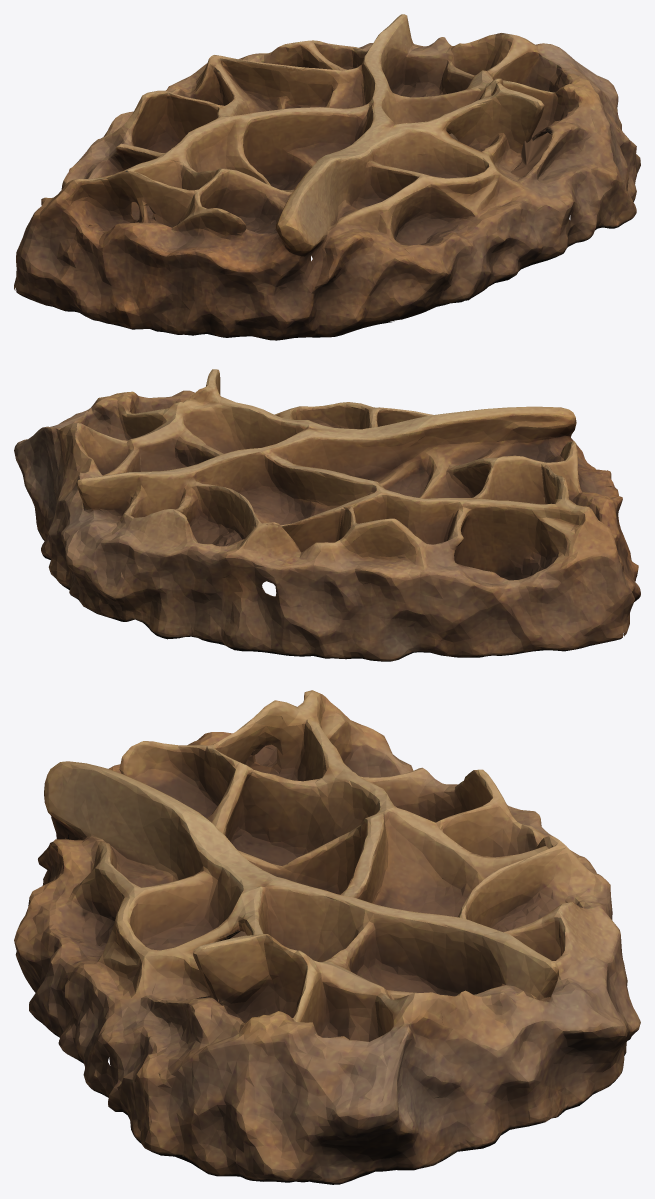
3 views of the same model, one above another, from view 1: azimuth 30°, elevation 25°; view 2: azimuth 150°, elevation 25°; view 3: azimuth 270°, elevation 25° (orthographic). The views are drawn at different scales.
Parts seen in each view (by area): view 1: world, CAVE_RECESSED_FLOOR_3; view 2: world; view 3: world.
Part boxes in pixels (x1,y1,x2,y2): world: (14, 14, 640, 340); CAVE_RECESSED_FLOOR_3: (511, 132, 552, 177); world: (14, 369, 640, 661); world: (14, 690, 640, 1184).
Size of the model in its own units: 0.9961 by 0.2078 by 0.6869.
1 material, 1 textured.
